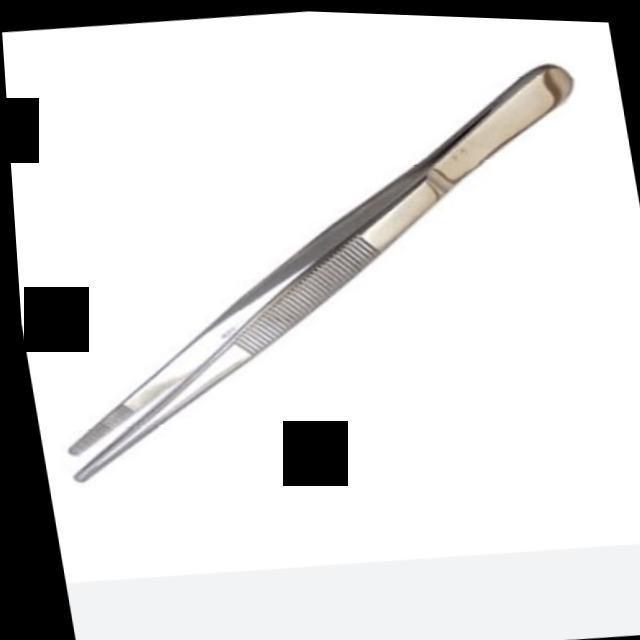Disscting Forceps -Plain-: (2, 31, 640, 513)
